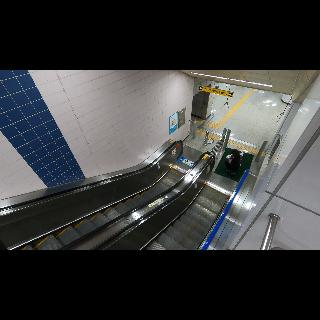anomaly: (222, 148, 246, 176)
